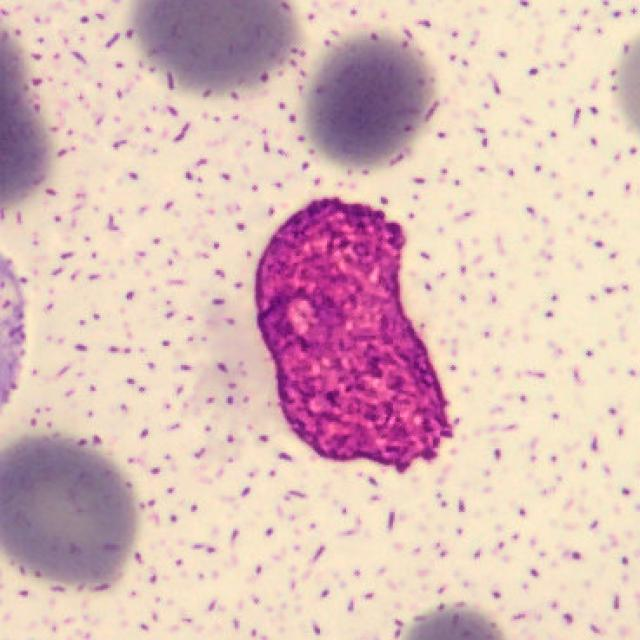Restos celulares: (256, 199, 454, 472)
